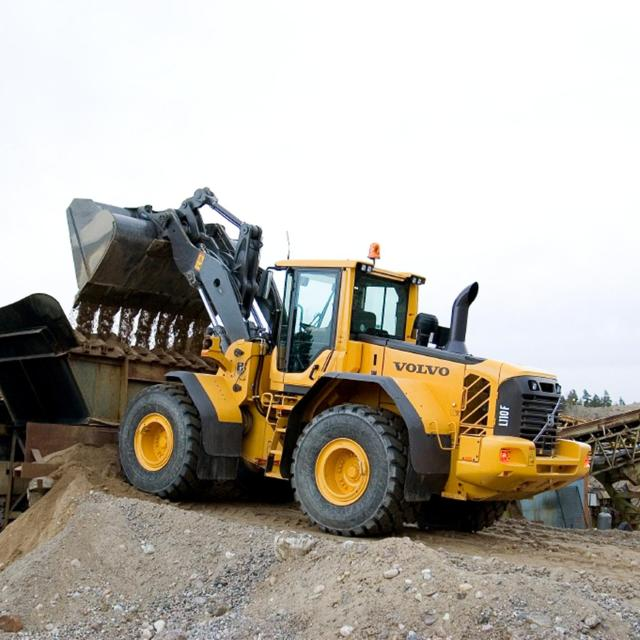buldozerpayloadergrader: (61, 187, 589, 551)
